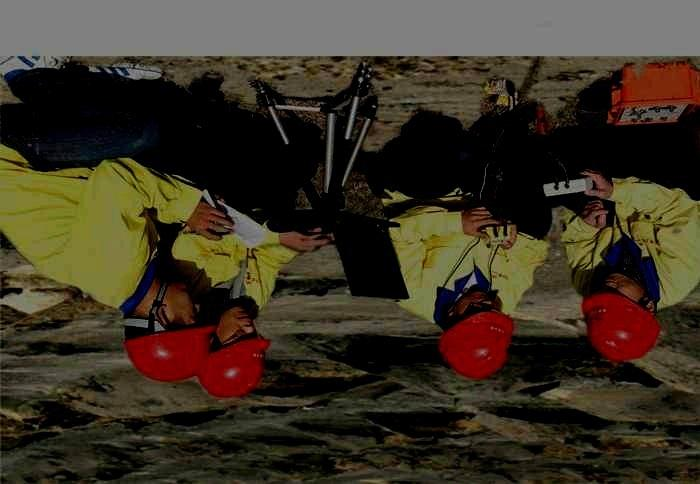helmet: (122, 283, 218, 384), (437, 283, 515, 381), (580, 272, 661, 362), (197, 305, 273, 400)
